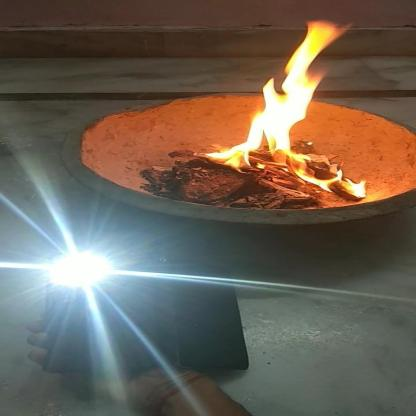fire: (203, 21, 374, 198)
